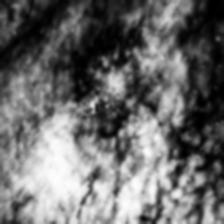Potentially Malignant Skin Tumors: (69, 25, 151, 150)
